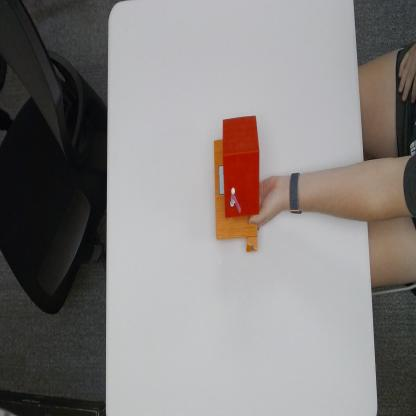Arm: (302, 160, 370, 222)
Hand: (250, 183, 285, 227)
House: (212, 113, 261, 252)
